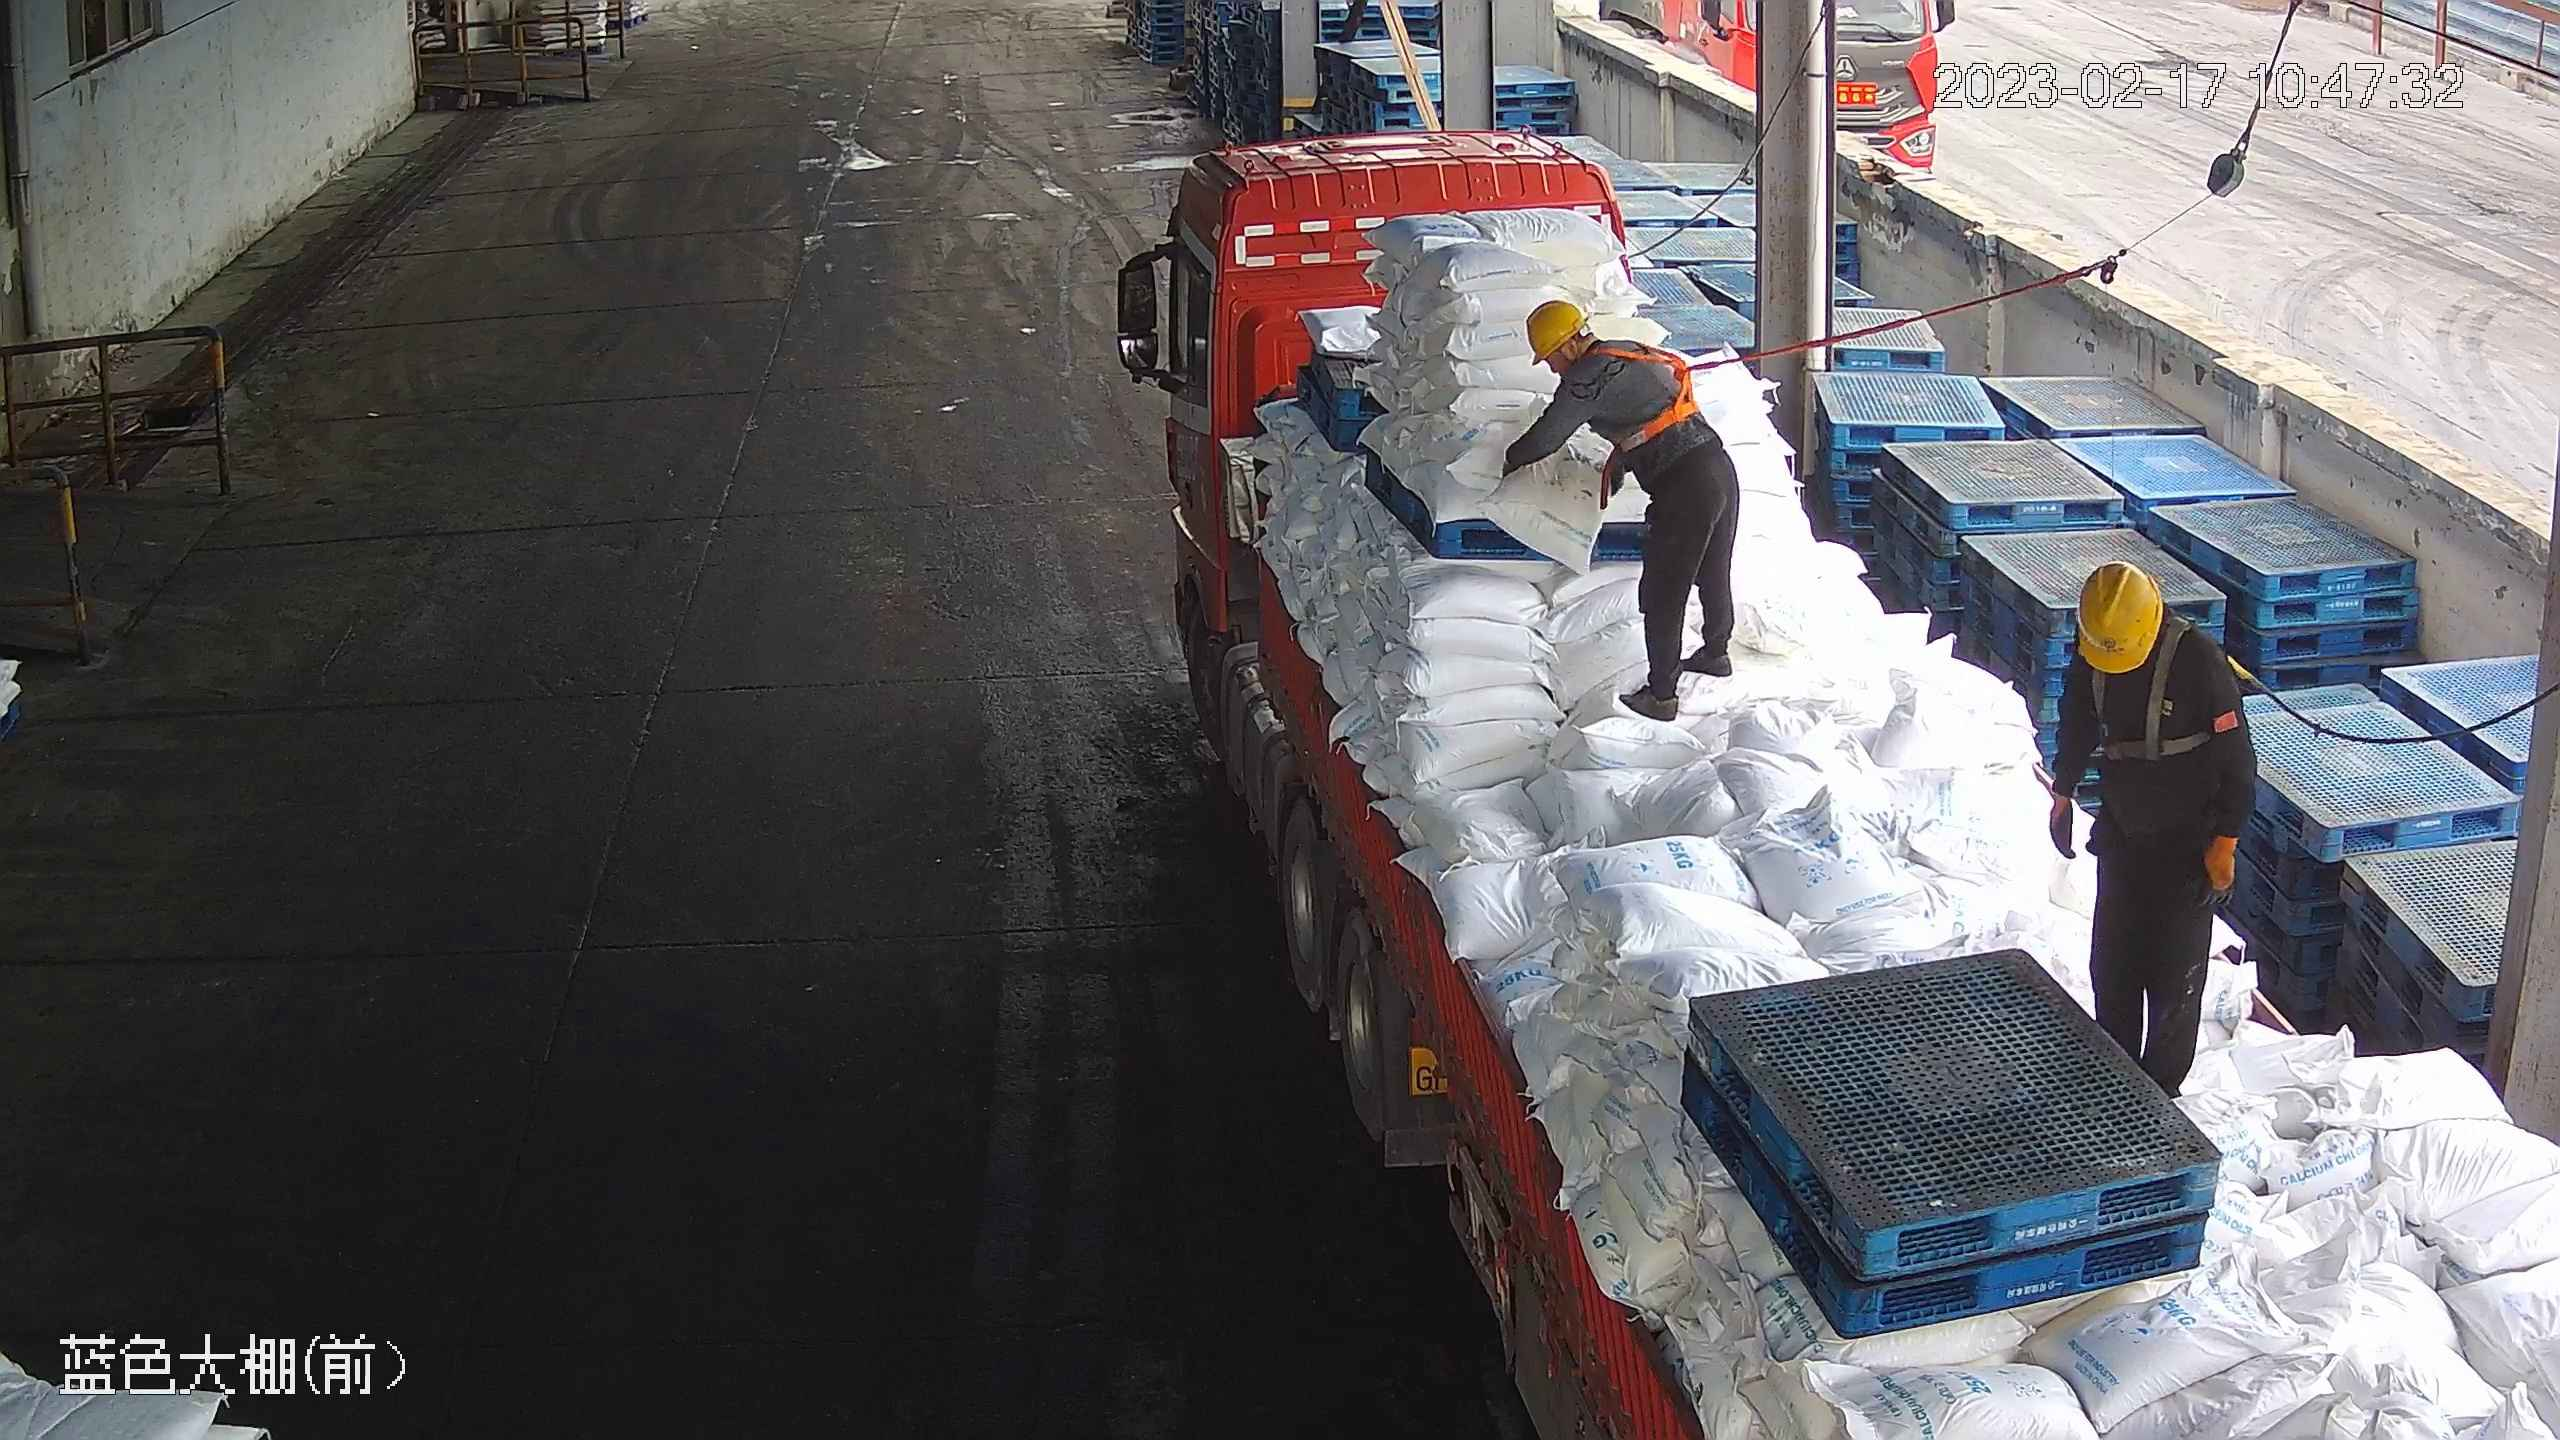belt: (2078, 648, 2195, 764), (1607, 340, 1714, 443)
head: (2062, 559, 2244, 708), (1517, 299, 1627, 399)
helmet: (2075, 557, 2167, 674), (1523, 298, 1588, 364)
people: (2045, 555, 2257, 1096), (1499, 296, 1741, 727)
truck: (1107, 124, 2560, 1440)
